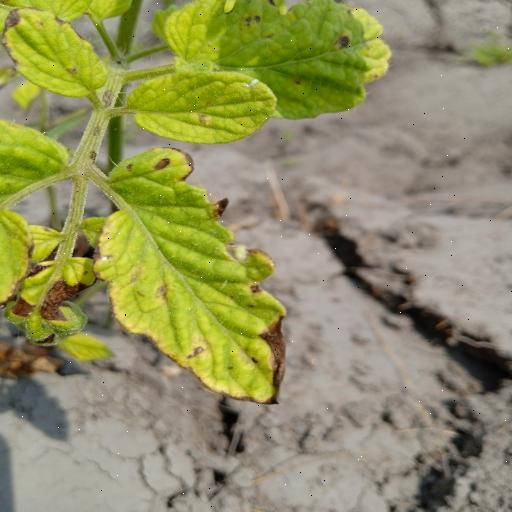Tomato_Brown_Spots: (88, 139, 300, 415)
